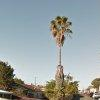Tree: (34, 9, 75, 64)
